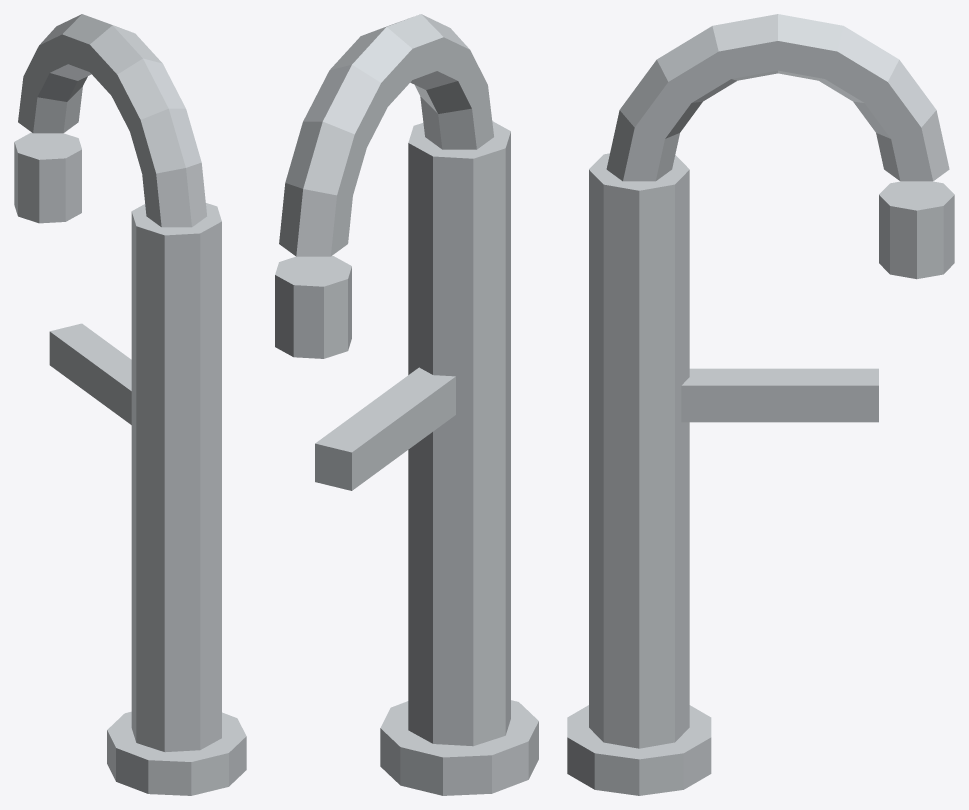
File: SM_LPI_Kitchen_Tap_01.fbx
3 views of the same model, side by side, from view 1: azimuth 30°, elevation 25°; view 2: azimuth 150°, elevation 25°; view 3: azimuth 270°, elevation 25° (orthographic). The views are drawn at different scales.
Visible parts, largest first — view 1: SM_LPI_Kitchen_Tap_01; view 2: SM_LPI_Kitchen_Tap_01; view 3: SM_LPI_Kitchen_Tap_01.
Part boxes in pixels (<box>): SM_LPI_Kitchen_Tap_01: <box>14,14,246,795</box>; SM_LPI_Kitchen_Tap_01: <box>275,14,538,795</box>; SM_LPI_Kitchen_Tap_01: <box>567,14,954,795</box>.
Bounding box in the file's own units: 0.06 × 0.328 × 0.1535.
